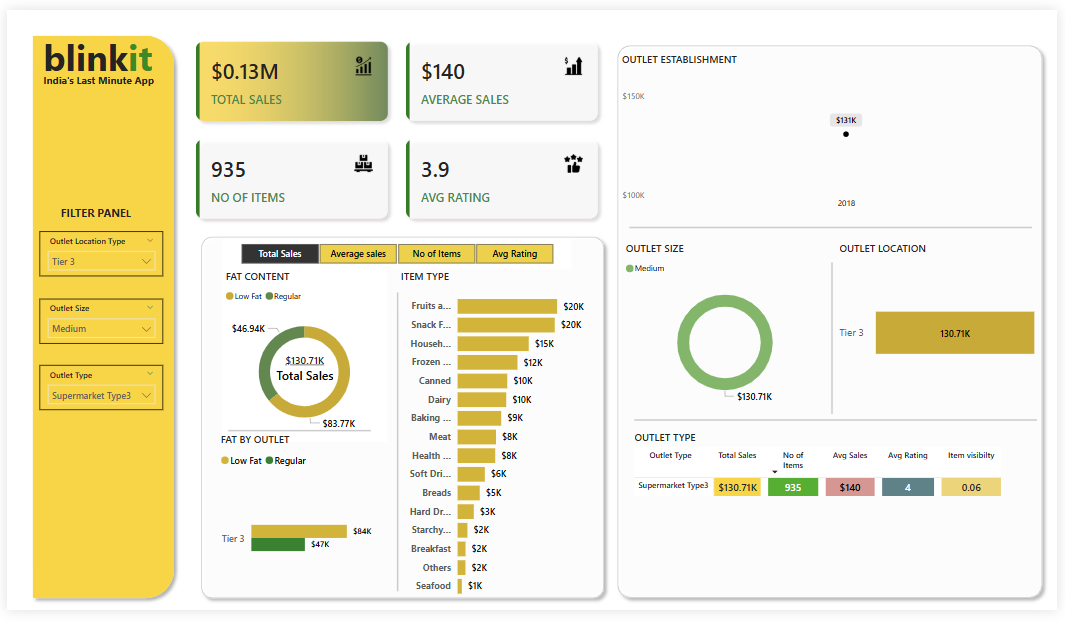

The dashboard page shown, as its layout file describes it:
{"tool":"powerbi","page":{"name":"Page 1","canvas":[1400,800],"ordinal":0},"visuals":[{"type":"shape","box":[25,25,206.7,768.3],"z":0},{"type":"textbox","box":[43,25,330,63],"z":1000},{"type":"textbox","box":[43.3,80,176.7,28.9],"z":2000},{"type":"cardVisual","fields":{"Data":["BlinkIT Grocery Data.Total Sales","BlinkIT Grocery Data.Average Time","BlinkIT Grocery Data.No of Items","BlinkIT Grocery Data.Avg Rating"]},"box":[235.7,25.7,570,270],"z":3000},{"type":"shape","box":[250,292.5,555,500],"z":4000},{"type":"donutChart","title":"FAT CONTENT","fields":{"Y":["BlinkIT Grocery Data.Total Sales"],"Category":["BlinkIT Grocery Data.Item Fat Content"]},"box":[287.1,344.3,220,230],"z":5000},{"type":"slicer","fields":{"Values":["Metrics.Metrics"]},"box":[287.1,304.3,465.7,40],"z":6000},{"type":"cardVisual","fields":{"Data":["BlinkIT Grocery Data.Total Sales"]},"box":[335.7,438.6,124.3,77.1],"z":7000},{"type":"clusteredBarChart","title":"FAT BY OUTLET","fields":{"Y":["BlinkIT Grocery Data.Total Sales"],"Category":["BlinkIT Grocery Data.Outlet Location Type"],"Series":["BlinkIT Grocery Data.Item Fat Content"]},"box":[280,562.9,220,230],"z":8000},{"type":"shape","box":[295,542.5,190,35],"z":9000},{"type":"shape","box":[506.7,376.7,28.3,398.3],"z":10000},{"type":"barChart","title":"ITEM TYPE","fields":{"Y":["BlinkIT Grocery Data.Total Sales"],"Category":["BlinkIT Grocery Data.Item Type"]},"box":[520,344.3,272.9,448.6],"z":11000},{"type":"shape","box":[805.7,38.6,584.3,754.3],"z":12000},{"type":"lineChart","title":"OUTLET ESTABLISHMENT","fields":{"Category":["BlinkIT Grocery Data.Outlet Establishment Year"],"Y":["BlinkIT Grocery Data.Total Sales"]},"box":[815,56.7,563.3,218.3],"z":13000},{"type":"shape","box":[830,255,536.7,70],"z":14000},{"type":"donutChart","title":"OUTLET SIZE","fields":{"Y":["BlinkIT Grocery Data.Total Sales"],"Category":["BlinkIT Grocery Data.Outlet Size"]},"box":[820,308.3,275,225],"z":15000},{"type":"shape","box":[1091.7,336.7,16.7,201.7],"z":16000},{"type":"funnel","title":"OUTLET LOCATION","fields":{"Y":["Sum(BlinkIT Grocery Data.Sales)"],"Category":["BlinkIT Grocery Data.Outlet Location Type"]},"box":[1105,308.3,275,225],"z":17000},{"type":"shape","box":[836.7,511.7,536.7,70],"z":18000},{"type":"pivotTable","title":"OUTLET TYPE","fields":{"Rows":["BlinkIT Grocery Data.Outlet Type"],"Values":["BlinkIT Grocery Data.Total Sales","BlinkIT Grocery Data.No of Items","BlinkIT Grocery Data.Average sales","BlinkIT Grocery Data.Avg Rating","Avg(BlinkIT Grocery Data.Item Visibility)"]},"box":[831.7,560,546.7,226.7],"z":19000},{"type":"slicer","fields":{"Values":["BlinkIT Grocery Data.Outlet Location Type"]},"box":[43.3,295,165,60],"z":20000},{"type":"slicer","fields":{"Values":["BlinkIT Grocery Data.Outlet Size"]},"box":[43.3,385,165,60],"z":21000},{"type":"slicer","fields":{"Values":["BlinkIT Grocery Data.Outlet Type"]},"box":[43.3,473.3,165,60],"z":22000},{"type":"textbox","box":[66.7,255,118.3,35],"z":23000}]}

Visuals, with their boxes in screenshot pixels (x1, y1, x2, y2), scaled from the page's 1400x800 canvas onto the 1065x623 screenshot:
shape: left=19, top=19, right=176, bottom=618
textbox: left=33, top=19, right=284, bottom=69
textbox: left=33, top=62, right=167, bottom=85
cardVisual - BlinkIT Grocery Data.Total Sales x BlinkIT Grocery Data.Average Time: left=179, top=20, right=613, bottom=230
shape: left=190, top=228, right=612, bottom=617
"FAT CONTENT" donutChart: left=218, top=268, right=386, bottom=447
slicer - Metrics.Metrics: left=218, top=237, right=573, bottom=268
cardVisual - BlinkIT Grocery Data.Total Sales: left=255, top=342, right=350, bottom=402
"FAT BY OUTLET" clusteredBarChart: left=213, top=438, right=380, bottom=617
shape: left=224, top=422, right=369, bottom=450
shape: left=385, top=293, right=407, bottom=604
"ITEM TYPE" barChart: left=396, top=268, right=603, bottom=617
shape: left=613, top=30, right=1057, bottom=617
"OUTLET ESTABLISHMENT" lineChart: left=620, top=44, right=1048, bottom=214
shape: left=631, top=199, right=1040, bottom=253
"OUTLET SIZE" donutChart: left=624, top=240, right=833, bottom=415
shape: left=830, top=262, right=843, bottom=419
"OUTLET LOCATION" funnel: left=841, top=240, right=1050, bottom=415
shape: left=636, top=398, right=1045, bottom=453
"OUTLET TYPE" pivotTable: left=633, top=436, right=1049, bottom=613
slicer - BlinkIT Grocery Data.Outlet Location Type: left=33, top=230, right=158, bottom=276
slicer - BlinkIT Grocery Data.Outlet Size: left=33, top=300, right=158, bottom=347
slicer - BlinkIT Grocery Data.Outlet Type: left=33, top=369, right=158, bottom=415
textbox: left=51, top=199, right=141, bottom=226
